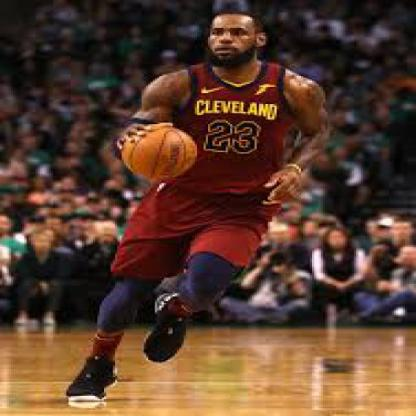basketball: (121, 126, 197, 178)
